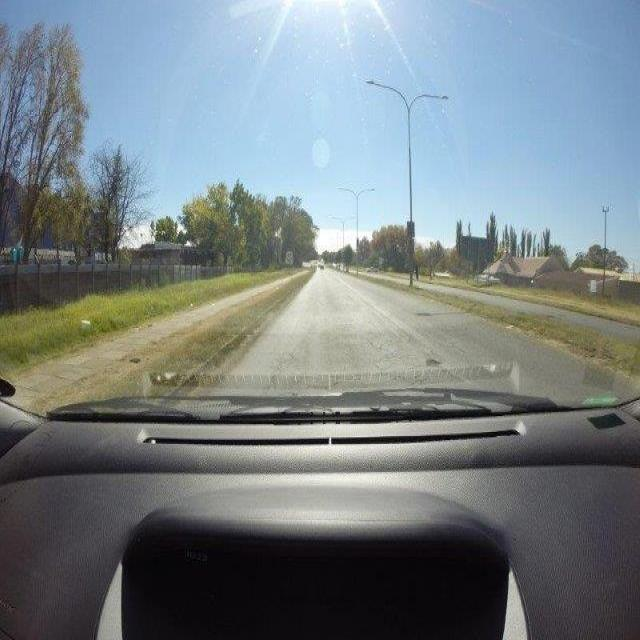jalan retak: (362, 322, 423, 374)
lubang: (424, 355, 445, 369)
